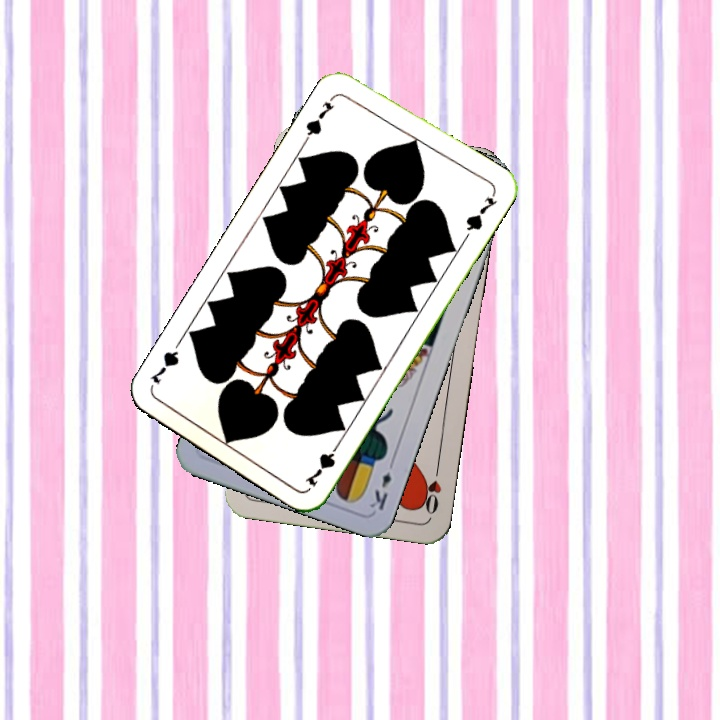EK: (366, 455, 398, 513)
G7: (301, 437, 344, 490), (301, 91, 338, 144)
HO: (417, 459, 444, 517)
